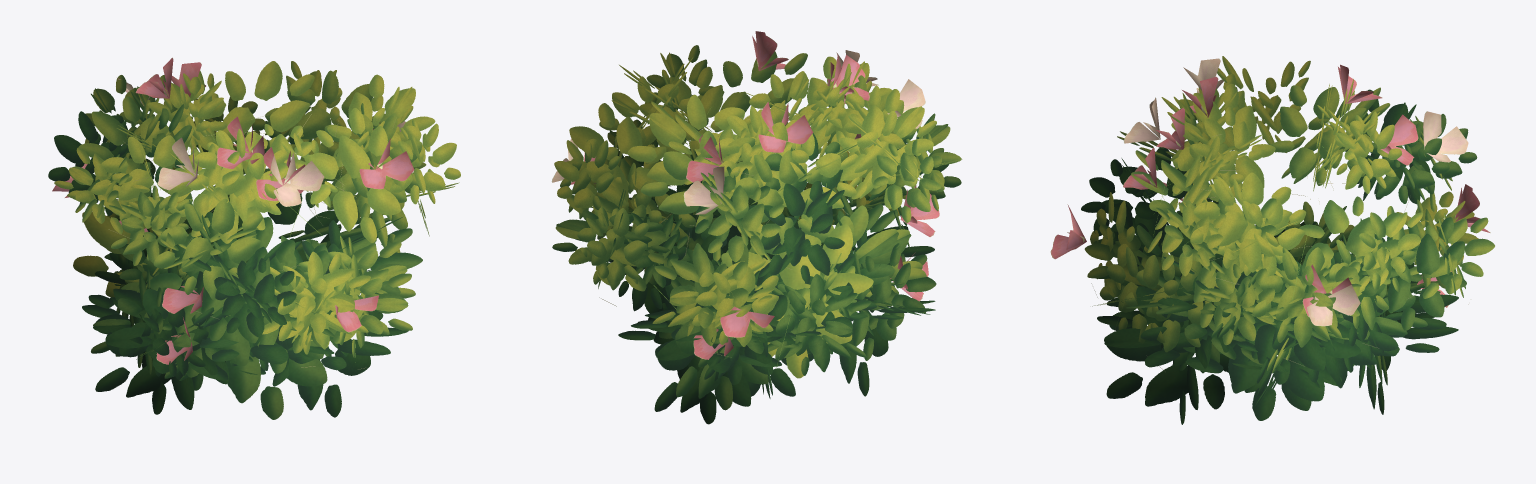
Rendered from bush_flowering.glb.
3 renders of one model, left to right at view 1: azimuth 30°, elevation 25°; view 2: azimuth 150°, elevation 25°; view 3: azimuth 270°, elevation 25°, orthographic.
Parts seen in each view (by area): view 1: bush_flowering; view 2: bush_flowering; view 3: bush_flowering.
Part boxes in pixels (<box>): bush_flowering: <box>48,57,460,419</box>; bush_flowering: <box>551,31,962,424</box>; bush_flowering: <box>1050,56,1494,424</box>.
Bounding box in the file's own units: 1 × 0.9 × 1.03.
1 material, 1 textured.
